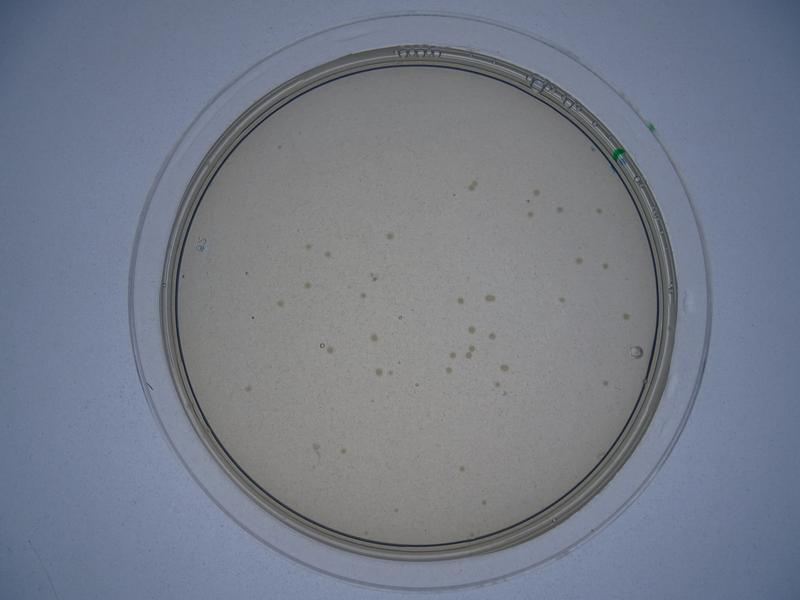colony: (618, 307, 635, 324), (597, 258, 615, 273), (320, 246, 335, 263), (497, 360, 511, 376), (241, 381, 255, 396), (572, 254, 587, 268), (371, 365, 385, 380), (462, 322, 478, 335), (366, 330, 380, 344), (553, 202, 566, 217), (486, 328, 497, 345), (481, 294, 498, 305), (383, 230, 397, 243), (593, 204, 606, 217), (557, 294, 570, 307), (453, 296, 467, 308), (530, 185, 542, 199), (456, 462, 468, 476), (274, 297, 286, 310), (301, 280, 314, 292), (389, 505, 401, 517), (480, 499, 489, 508)
